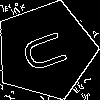U: (20, 25, 78, 75)
